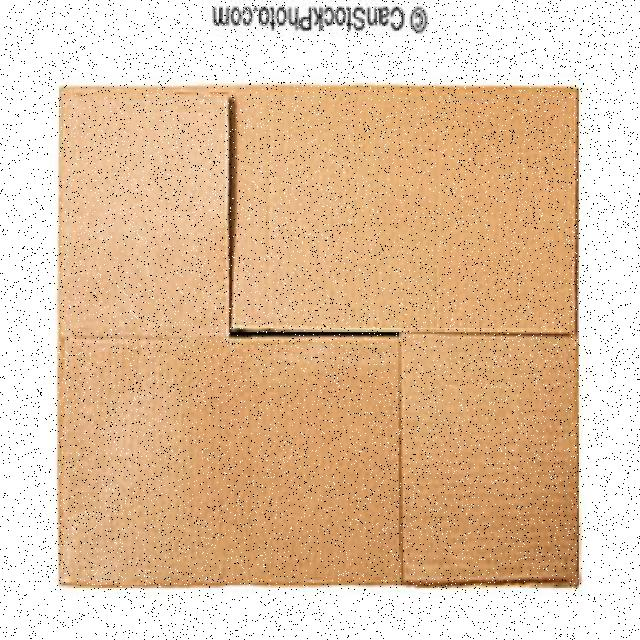defect: (45, 69, 589, 602)
